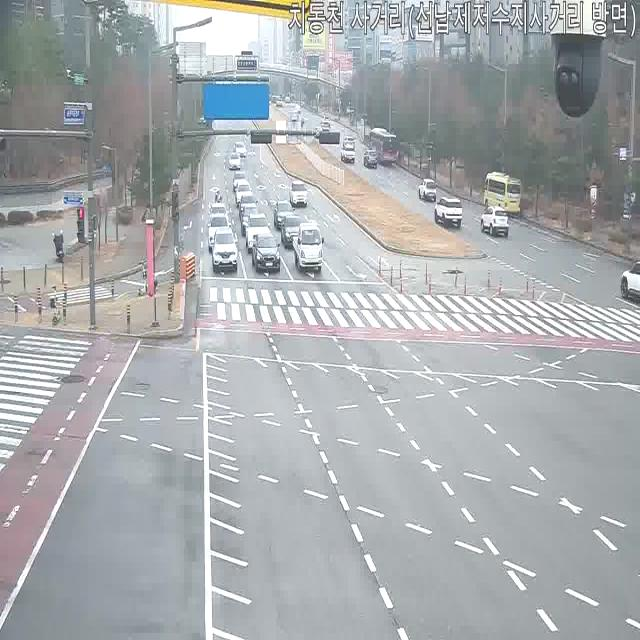Bus: (481, 172, 523, 216), (369, 127, 399, 165)
Car: (211, 228, 238, 274), (251, 233, 281, 274), (244, 213, 272, 252), (619, 257, 640, 307), (206, 214, 232, 251), (434, 196, 463, 228), (481, 205, 509, 238), (281, 215, 307, 249), (239, 207, 263, 235), (273, 199, 295, 229), (208, 202, 230, 230), (288, 180, 309, 208), (239, 193, 258, 220), (418, 178, 438, 202), (235, 181, 253, 207), (232, 170, 247, 193), (340, 143, 356, 164), (363, 148, 378, 169), (228, 152, 242, 172), (232, 141, 246, 158), (342, 135, 356, 150), (289, 110, 299, 126), (274, 95, 284, 109), (314, 126, 324, 140), (320, 121, 331, 133), (293, 104, 301, 114)
Motorcycle: (214, 187, 222, 209)
Truck: (294, 221, 324, 274), (340, 143, 356, 164)
